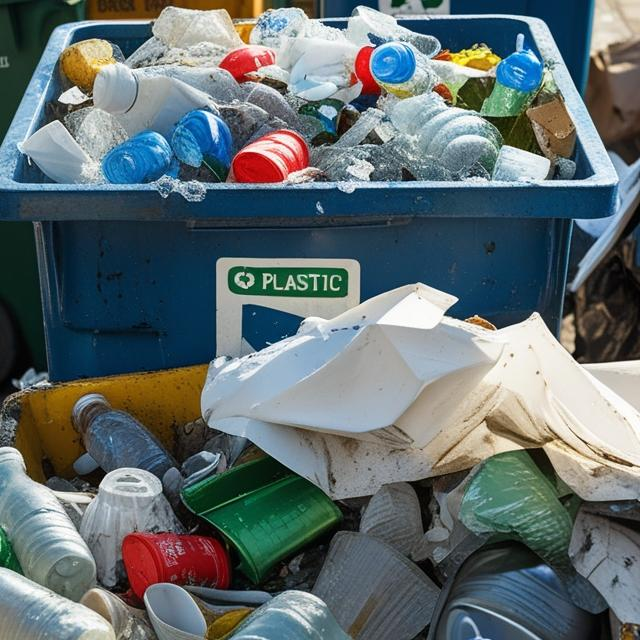plastic: (0, 543, 123, 640)
